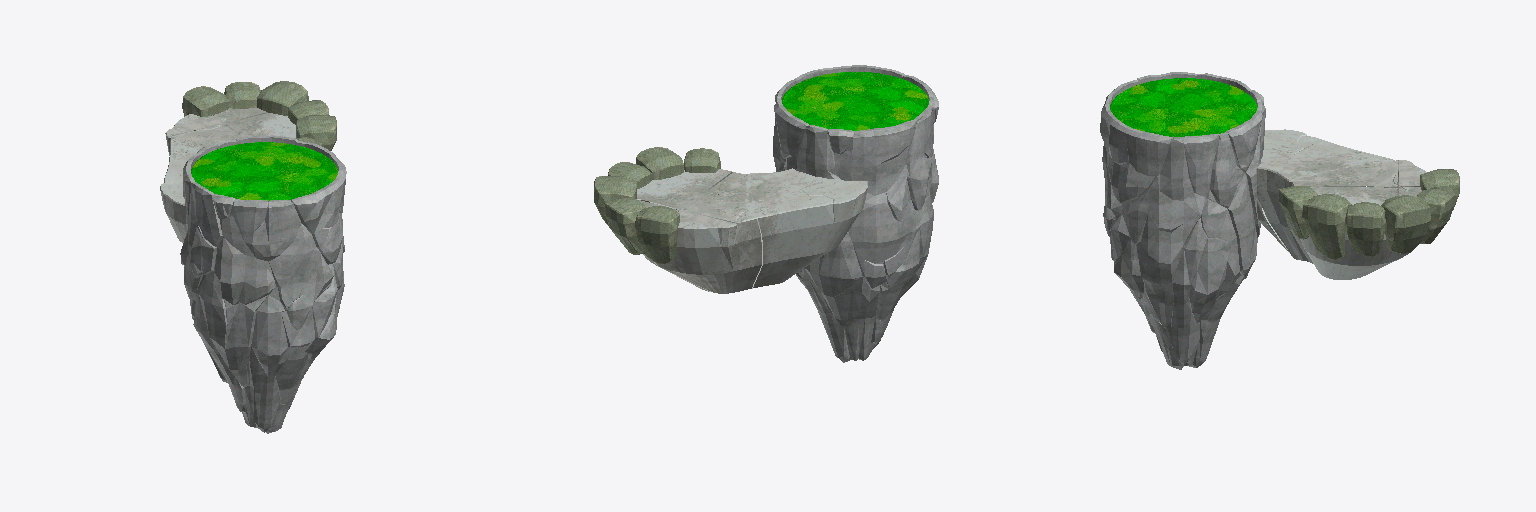
The picture shows the model from 3 angles: view 1: azimuth 30°, elevation 25°; view 2: azimuth 150°, elevation 25°; view 3: azimuth 270°, elevation 25°; orthographic projection.
Parts seen in each view (by area): view 1: BossJugemPlanet.003_meshId3_name, BossJugemPlanet.002_meshId2_name, BossJugemPlanet.001_meshId1_name, BossJugemPlanet_meshId0_name; view 2: BossJugemPlanet.003_meshId3_name, BossJugemPlanet.001_meshId1_name, BossJugemPlanet_meshId0_name, BossJugemPlanet.002_meshId2_name; view 3: BossJugemPlanet.003_meshId3_name, BossJugemPlanet.001_meshId1_name, BossJugemPlanet_meshId0_name, BossJugemPlanet.002_meshId2_name.
Part boxes in pixels (x1,y1,x2,y2): BossJugemPlanet.003_meshId3_name: (180,135,346,433); BossJugemPlanet.002_meshId2_name: (191,142,337,200); BossJugemPlanet.001_meshId1_name: (160,108,295,242); BossJugemPlanet_meshId0_name: (180,81,336,175); BossJugemPlanet.003_meshId3_name: (773,65,938,362); BossJugemPlanet.001_meshId1_name: (636,168,867,293); BossJugemPlanet_meshId0_name: (594,147,810,263); BossJugemPlanet.002_meshId2_name: (782,72,928,130); BossJugemPlanet.003_meshId3_name: (1100,72,1265,369); BossJugemPlanet.001_meshId1_name: (1257,129,1426,279); BossJugemPlanet_meshId0_name: (1278,144,1459,259); BossJugemPlanet.002_meshId2_name: (1110,78,1257,136).
Bounding box in the file's own units: 37.75 × 42.59 × 52.51.
4 materials, 4 textured.